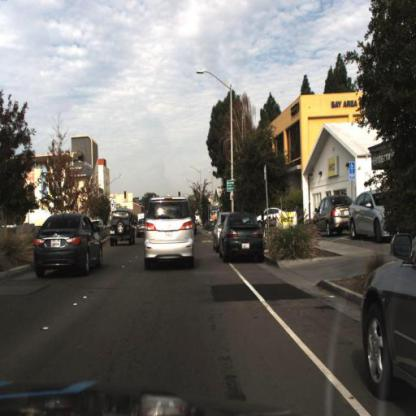car: (30, 205, 109, 291), (139, 187, 203, 276), (214, 209, 268, 274), (347, 182, 398, 247), (307, 189, 356, 246), (104, 199, 138, 254), (251, 196, 288, 233), (211, 211, 224, 262), (133, 212, 147, 240)
